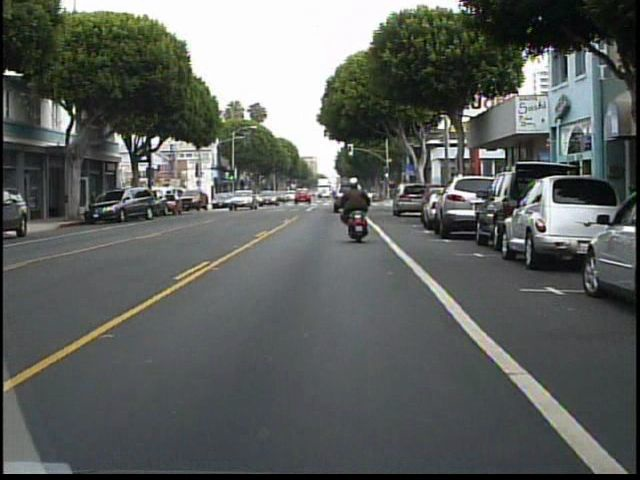person: (335, 171, 374, 240)
